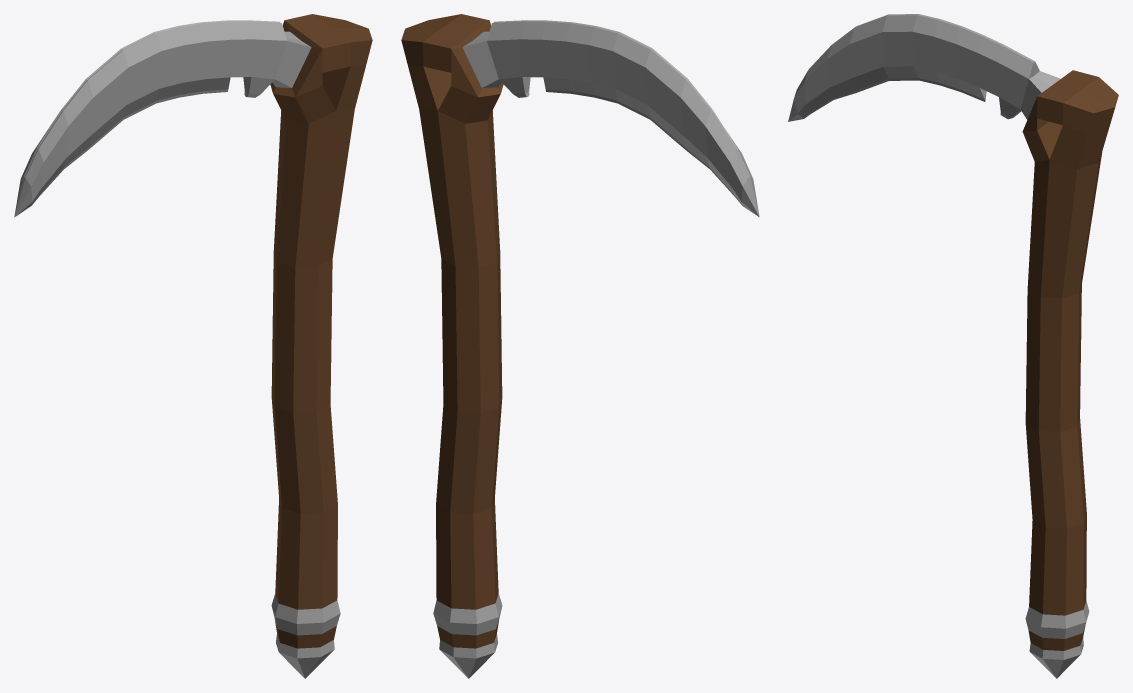
The model's file is Scythe.glb.
The picture shows the model from 3 angles, left to right: view 1: azimuth 30°, elevation 25°; view 2: azimuth 150°, elevation 25°; view 3: azimuth 330°, elevation 25°; orthographic projection. The views are drawn at different scales.
Visible parts, largest first — view 1: Cylinder-col; view 2: Cylinder-col; view 3: Cylinder-col.
Part boxes in pixels (x1,y1,x2,y2): Cylinder-col: (14, 14, 372, 678); Cylinder-col: (401, 14, 759, 678); Cylinder-col: (788, 14, 1118, 678).
Size of the model in its own units: 10.6 by 19.52 by 2.
